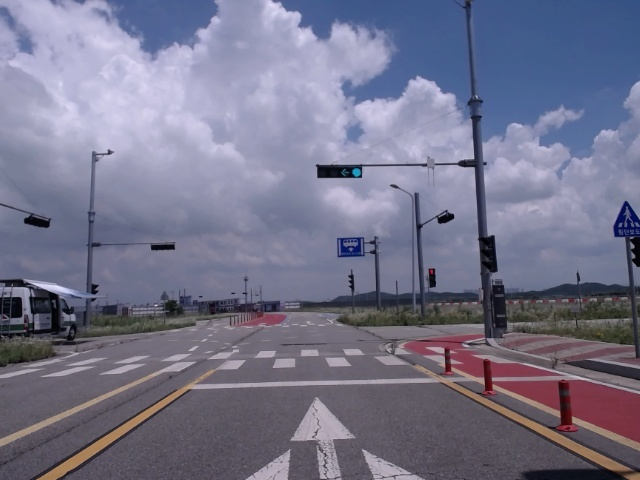all_green_4: (317, 163, 364, 179)
